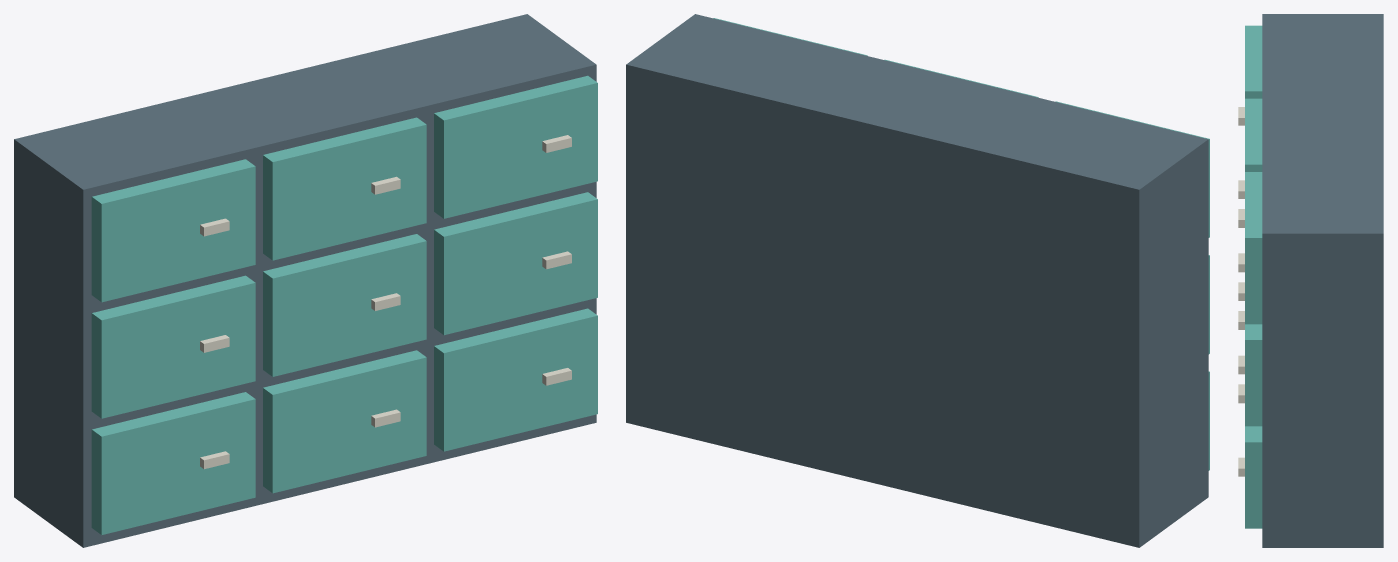
The model's file is voxel-city-districts-parcel-lockers-7284f287__24842.glb.
3 views of the same model, side by side, from view 1: azimuth 30°, elevation 25°; view 2: azimuth 150°, elevation 25°; view 3: azimuth 270°, elevation 25° (orthographic). The views are drawn at different scales.
Visible parts, largest first — view 1: parcel-lockers-accent, parcel-lockers-dark, parcel-lockers-concrete; view 2: parcel-lockers-dark, parcel-lockers-accent; view 3: parcel-lockers-dark, parcel-lockers-accent, parcel-lockers-concrete.
Boxes of the visible parts, x1,y1,x2,y2 form: parcel-lockers-accent: [91, 75, 597, 534]; parcel-lockers-dark: [14, 14, 596, 547]; parcel-lockers-concrete: [200, 135, 571, 469]; parcel-lockers-dark: [626, 14, 1208, 547]; parcel-lockers-accent: [713, 18, 1209, 470]; parcel-lockers-dark: [1262, 14, 1383, 547]; parcel-lockers-accent: [1245, 25, 1262, 528]; parcel-lockers-concrete: [1238, 107, 1244, 476].
Bounding box in the file's own units: 3 × 2 × 0.8399.
